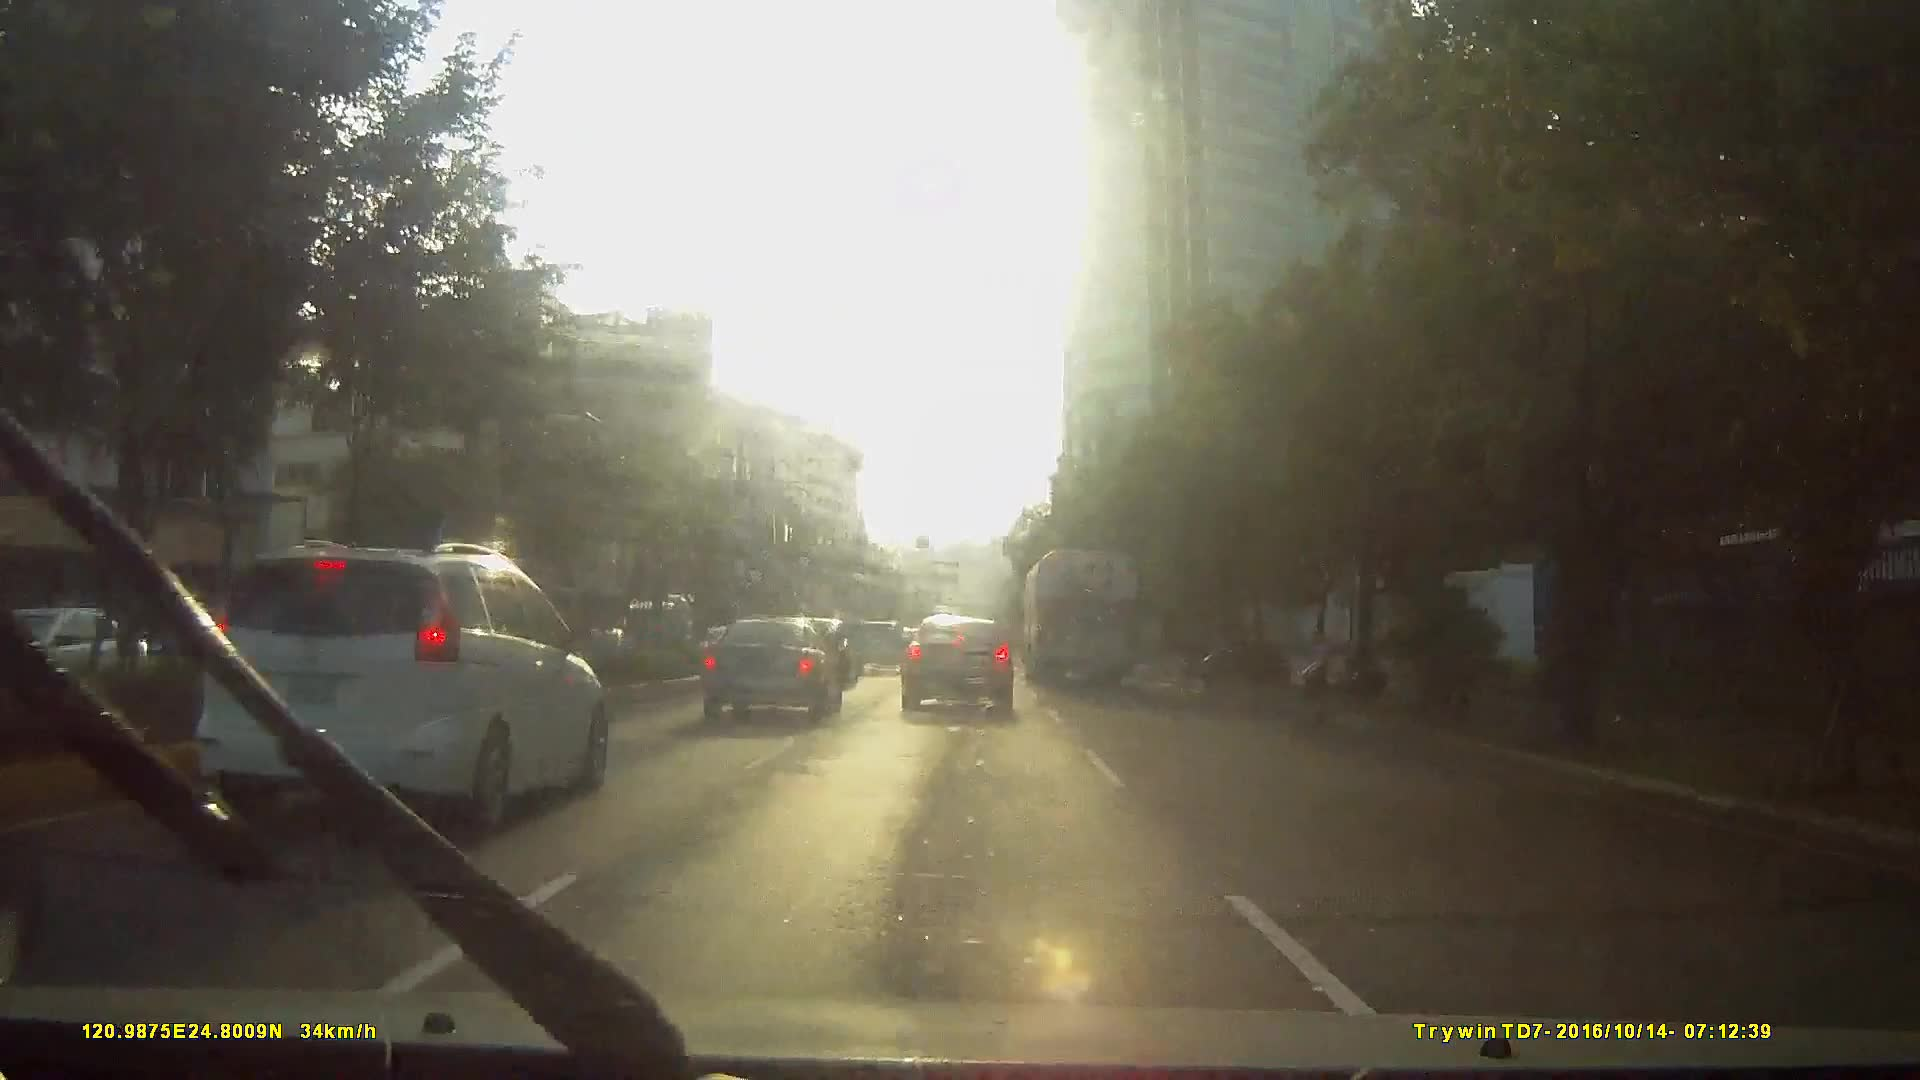vehicle: (171, 537, 622, 841), (251, 556, 684, 868), (1018, 543, 1139, 691), (691, 616, 841, 725), (897, 611, 1015, 721), (605, 589, 688, 665), (848, 617, 909, 676)
